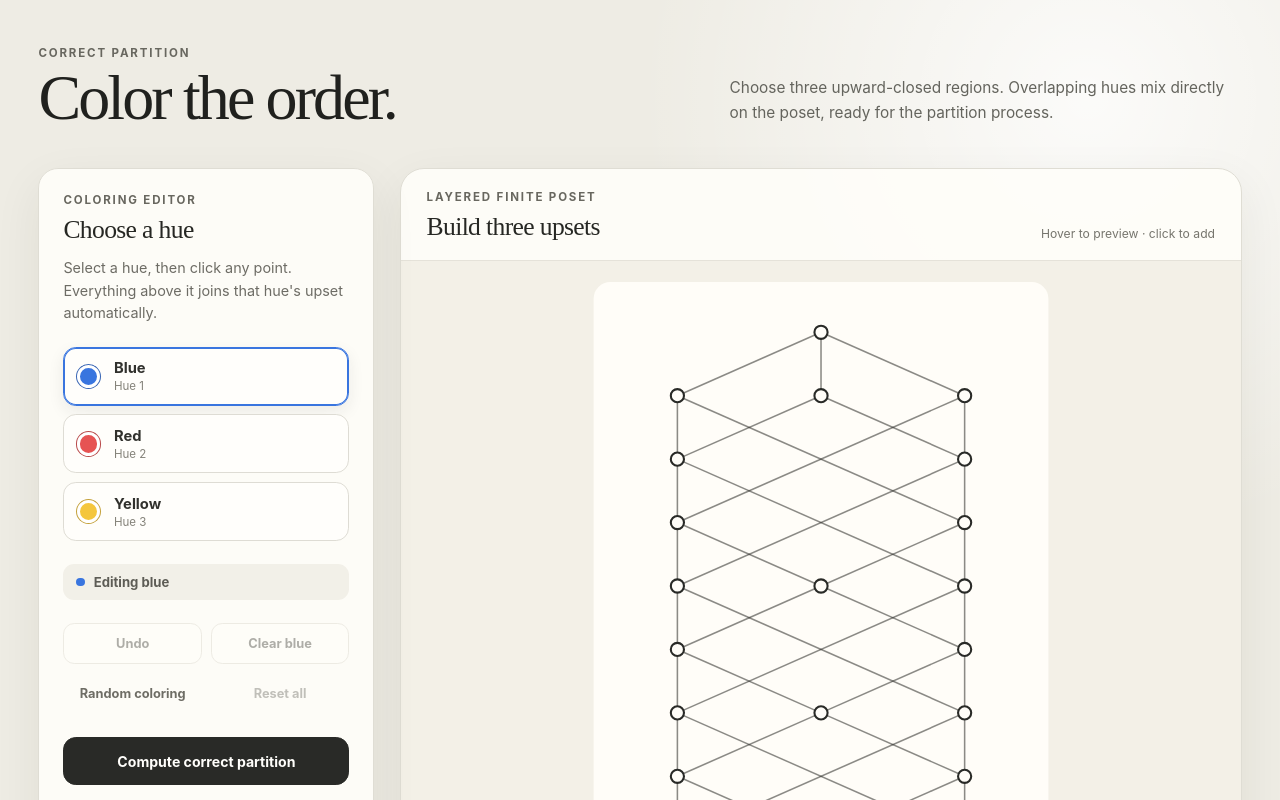
Test: partition trace › plays at 600ms per frame at 1x and pauses for manual stepping
The image size is (1280, 800).
What coordinates should you click on to do the following:
click the button "Compute correct partition"
I would click on:
 (206, 761)
Its box is [63,737,349,785].
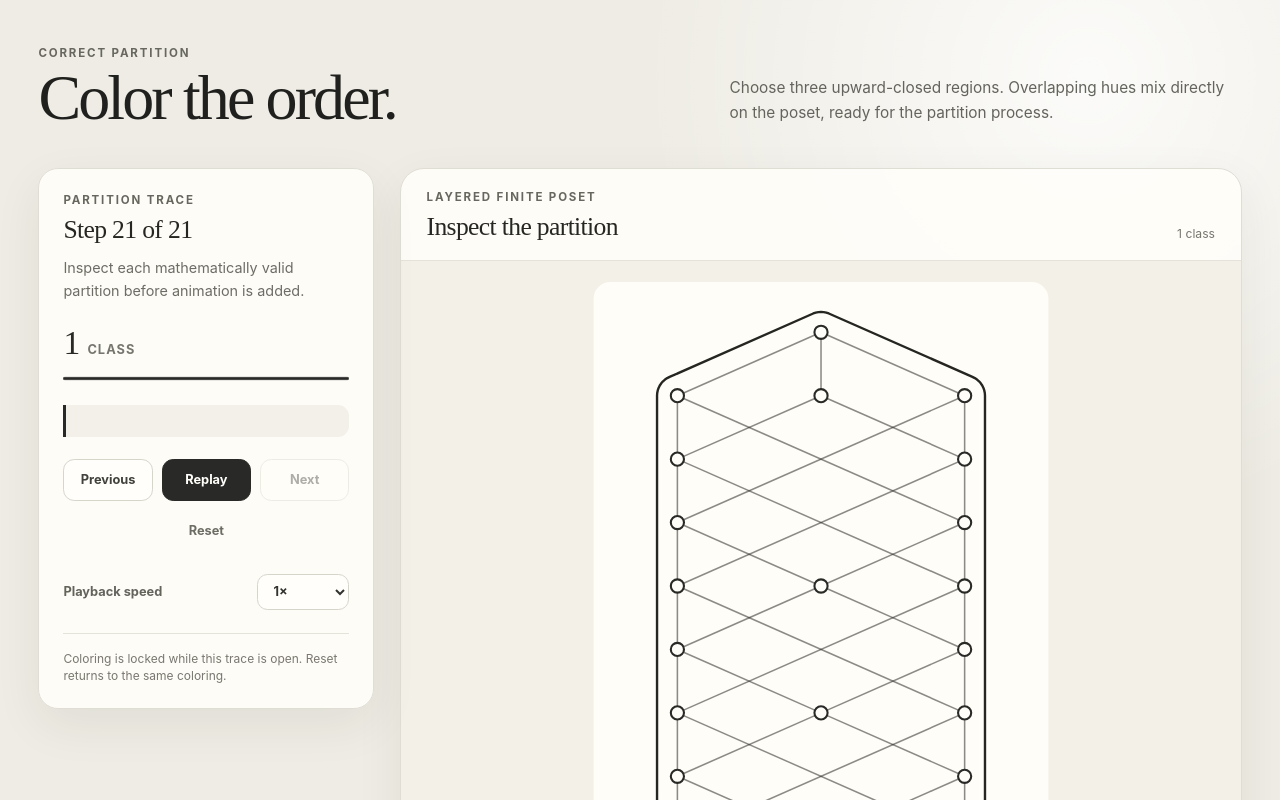
What coordinates should you click on to do the following:
click the button "Replay"
I would click on:
 (206, 480)
Its box is [162,459,251,501].
Wait 600 ms
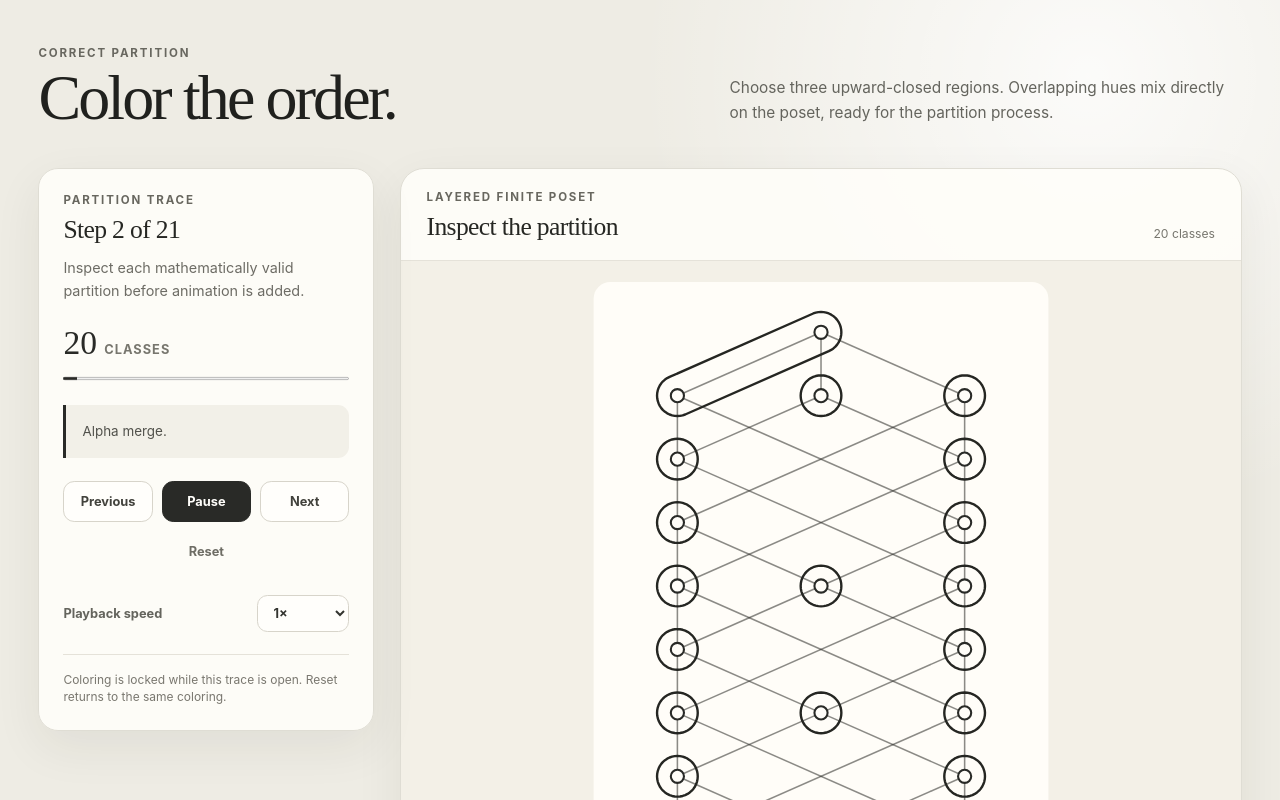
Expected: the button "Pause" is shown
Expected: the heading "Step 2 of 21" is shown, [63,215,180,244]
What coordinates should you click on to do the following:
click the button "Pause"
I would click on:
 (206, 502)
Its box is [162,481,251,522].
Wait 600 ms
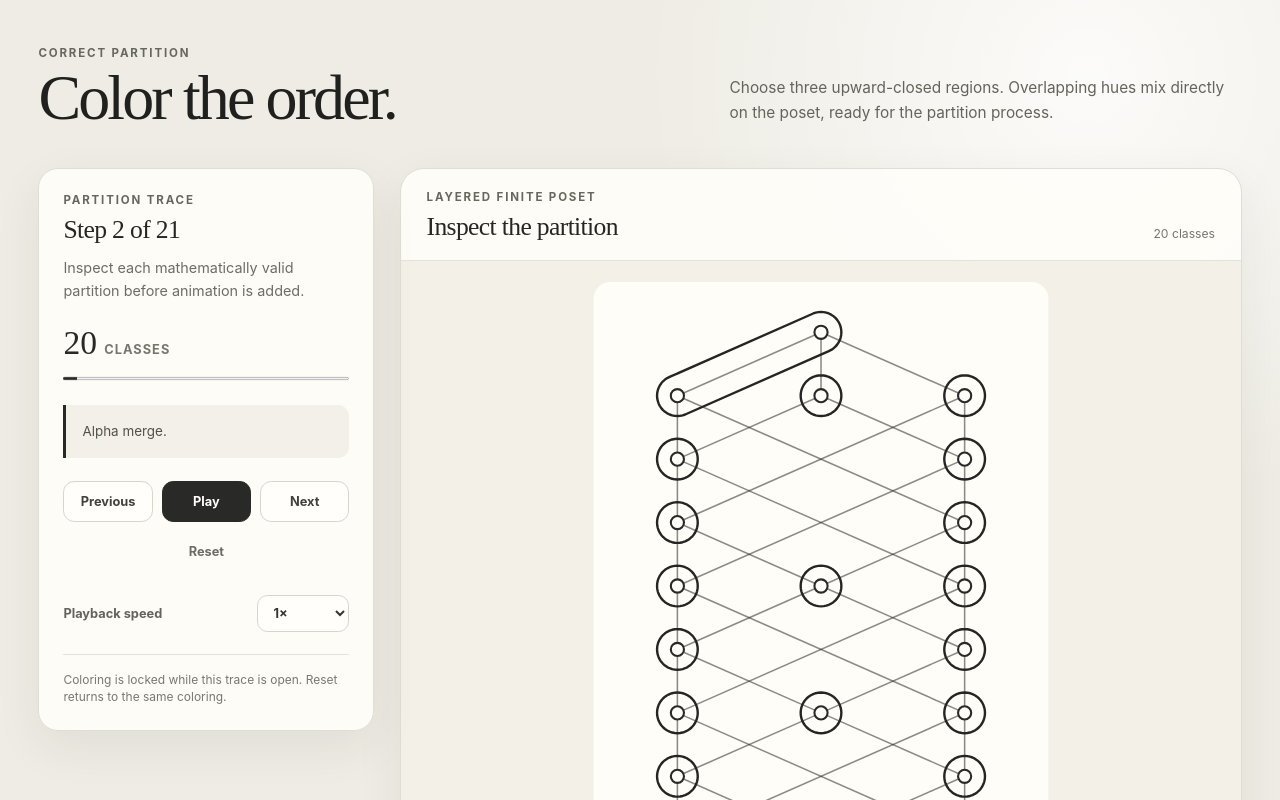
Expected: the heading "Step 2 of 21" is shown, [63,215,180,244]
What coordinates should you click on to do the following:
click the button "Play"
I would click on:
 (206, 502)
Its box is [162,481,251,522].
Wait 600 ms
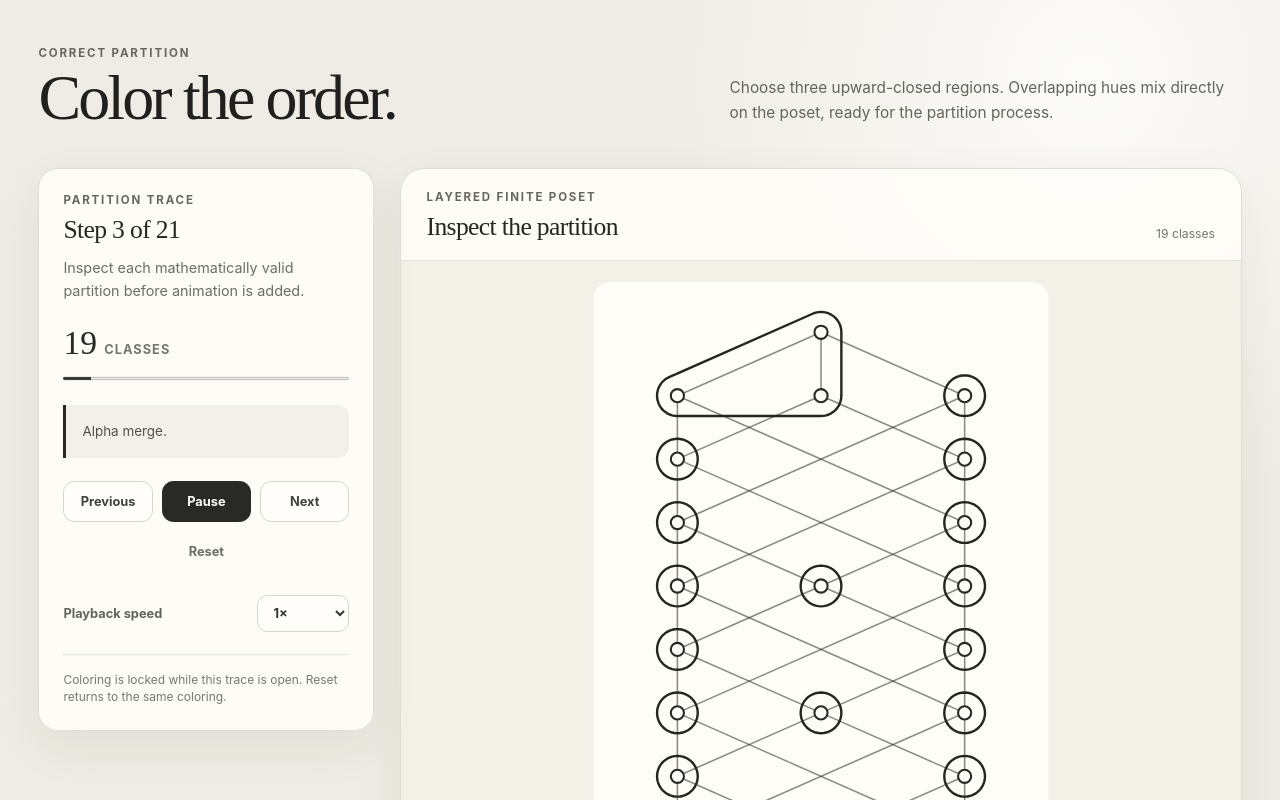
What coordinates should you click on to do the following:
click the button "Previous"
I would click on:
 (108, 502)
Its box is [63,481,153,522].
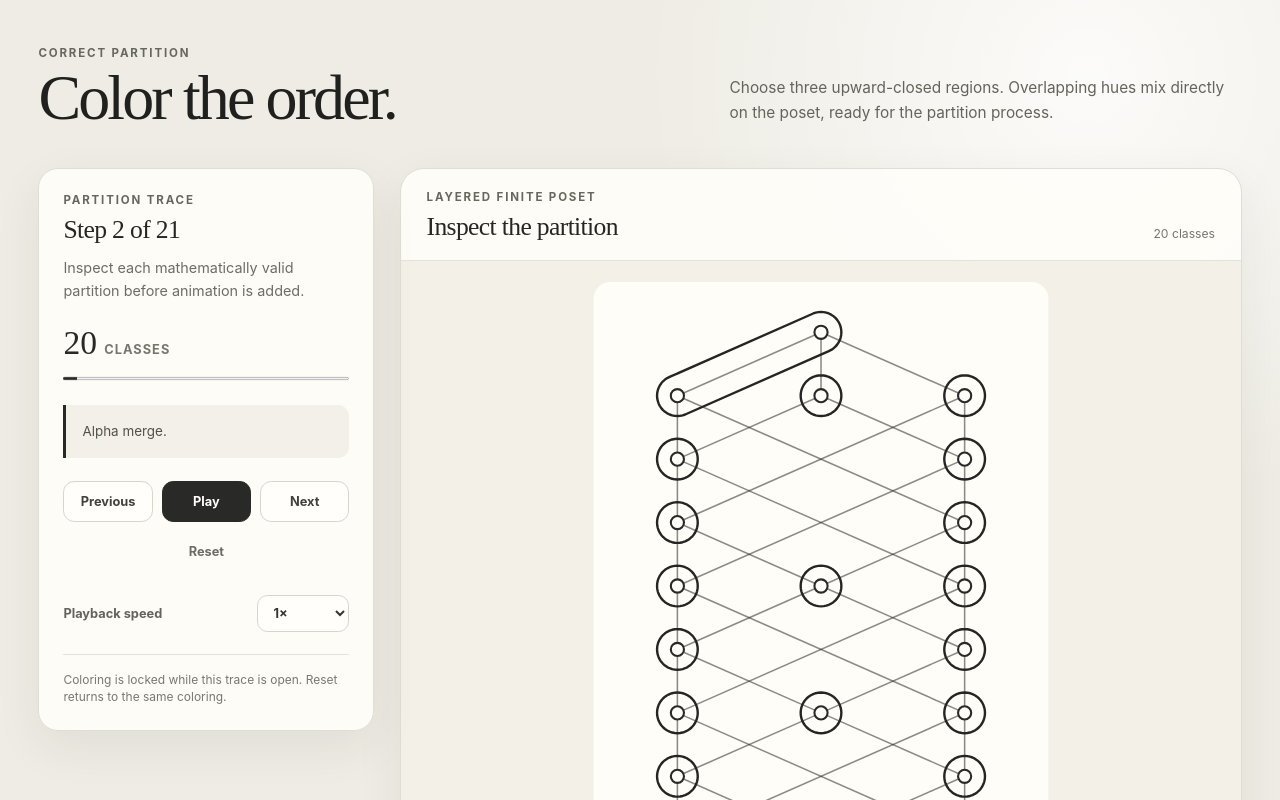
Expected: the button "Play" is shown, [162,481,251,522]
Expected: the heading "Step 2 of 21" is shown, [63,215,180,244]
